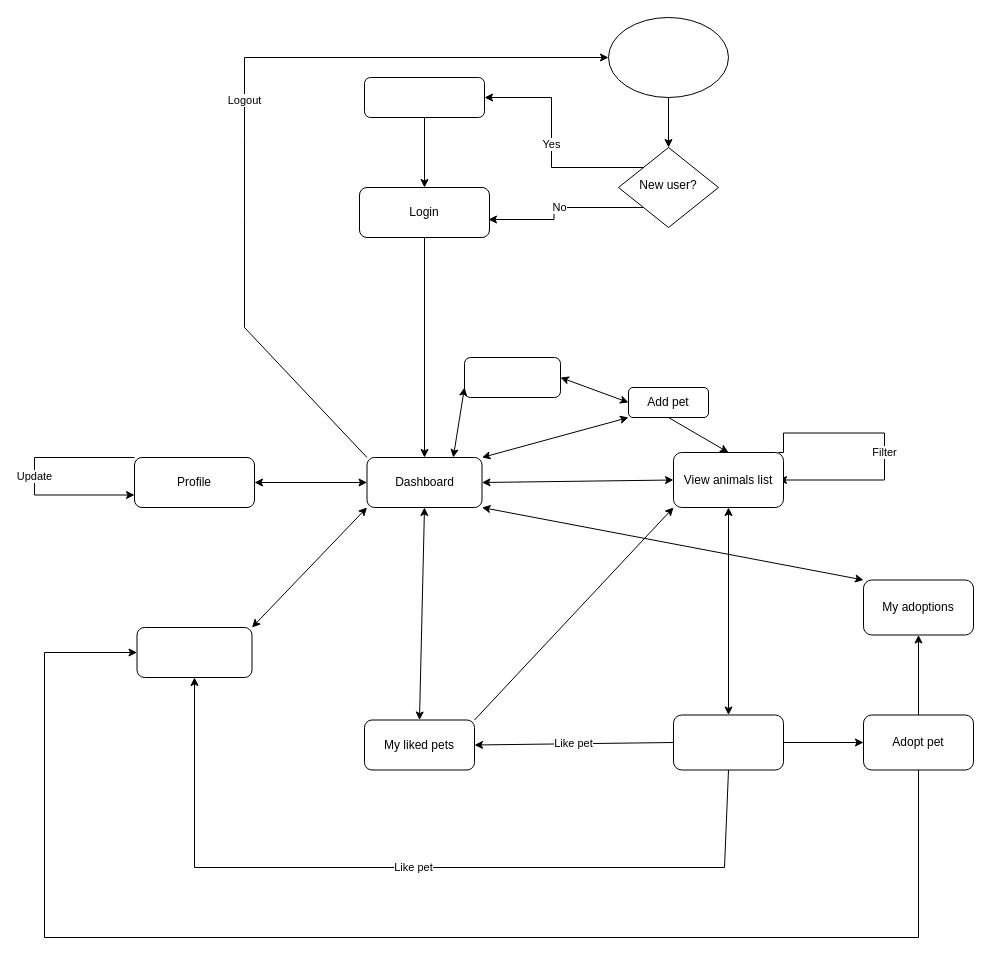
The diagram is 991 pixels wide and 963 high, and some of its shapes have lost their labels. The centre of each missing label's shape, as x and y in pixels:
"My pets" belongs at [512,377].
"Notifications" belongs at [194,652].
"Open App" belongs at [668,57].
"Register" belongs at [424,97].
"See details" belongs at [728,742].
